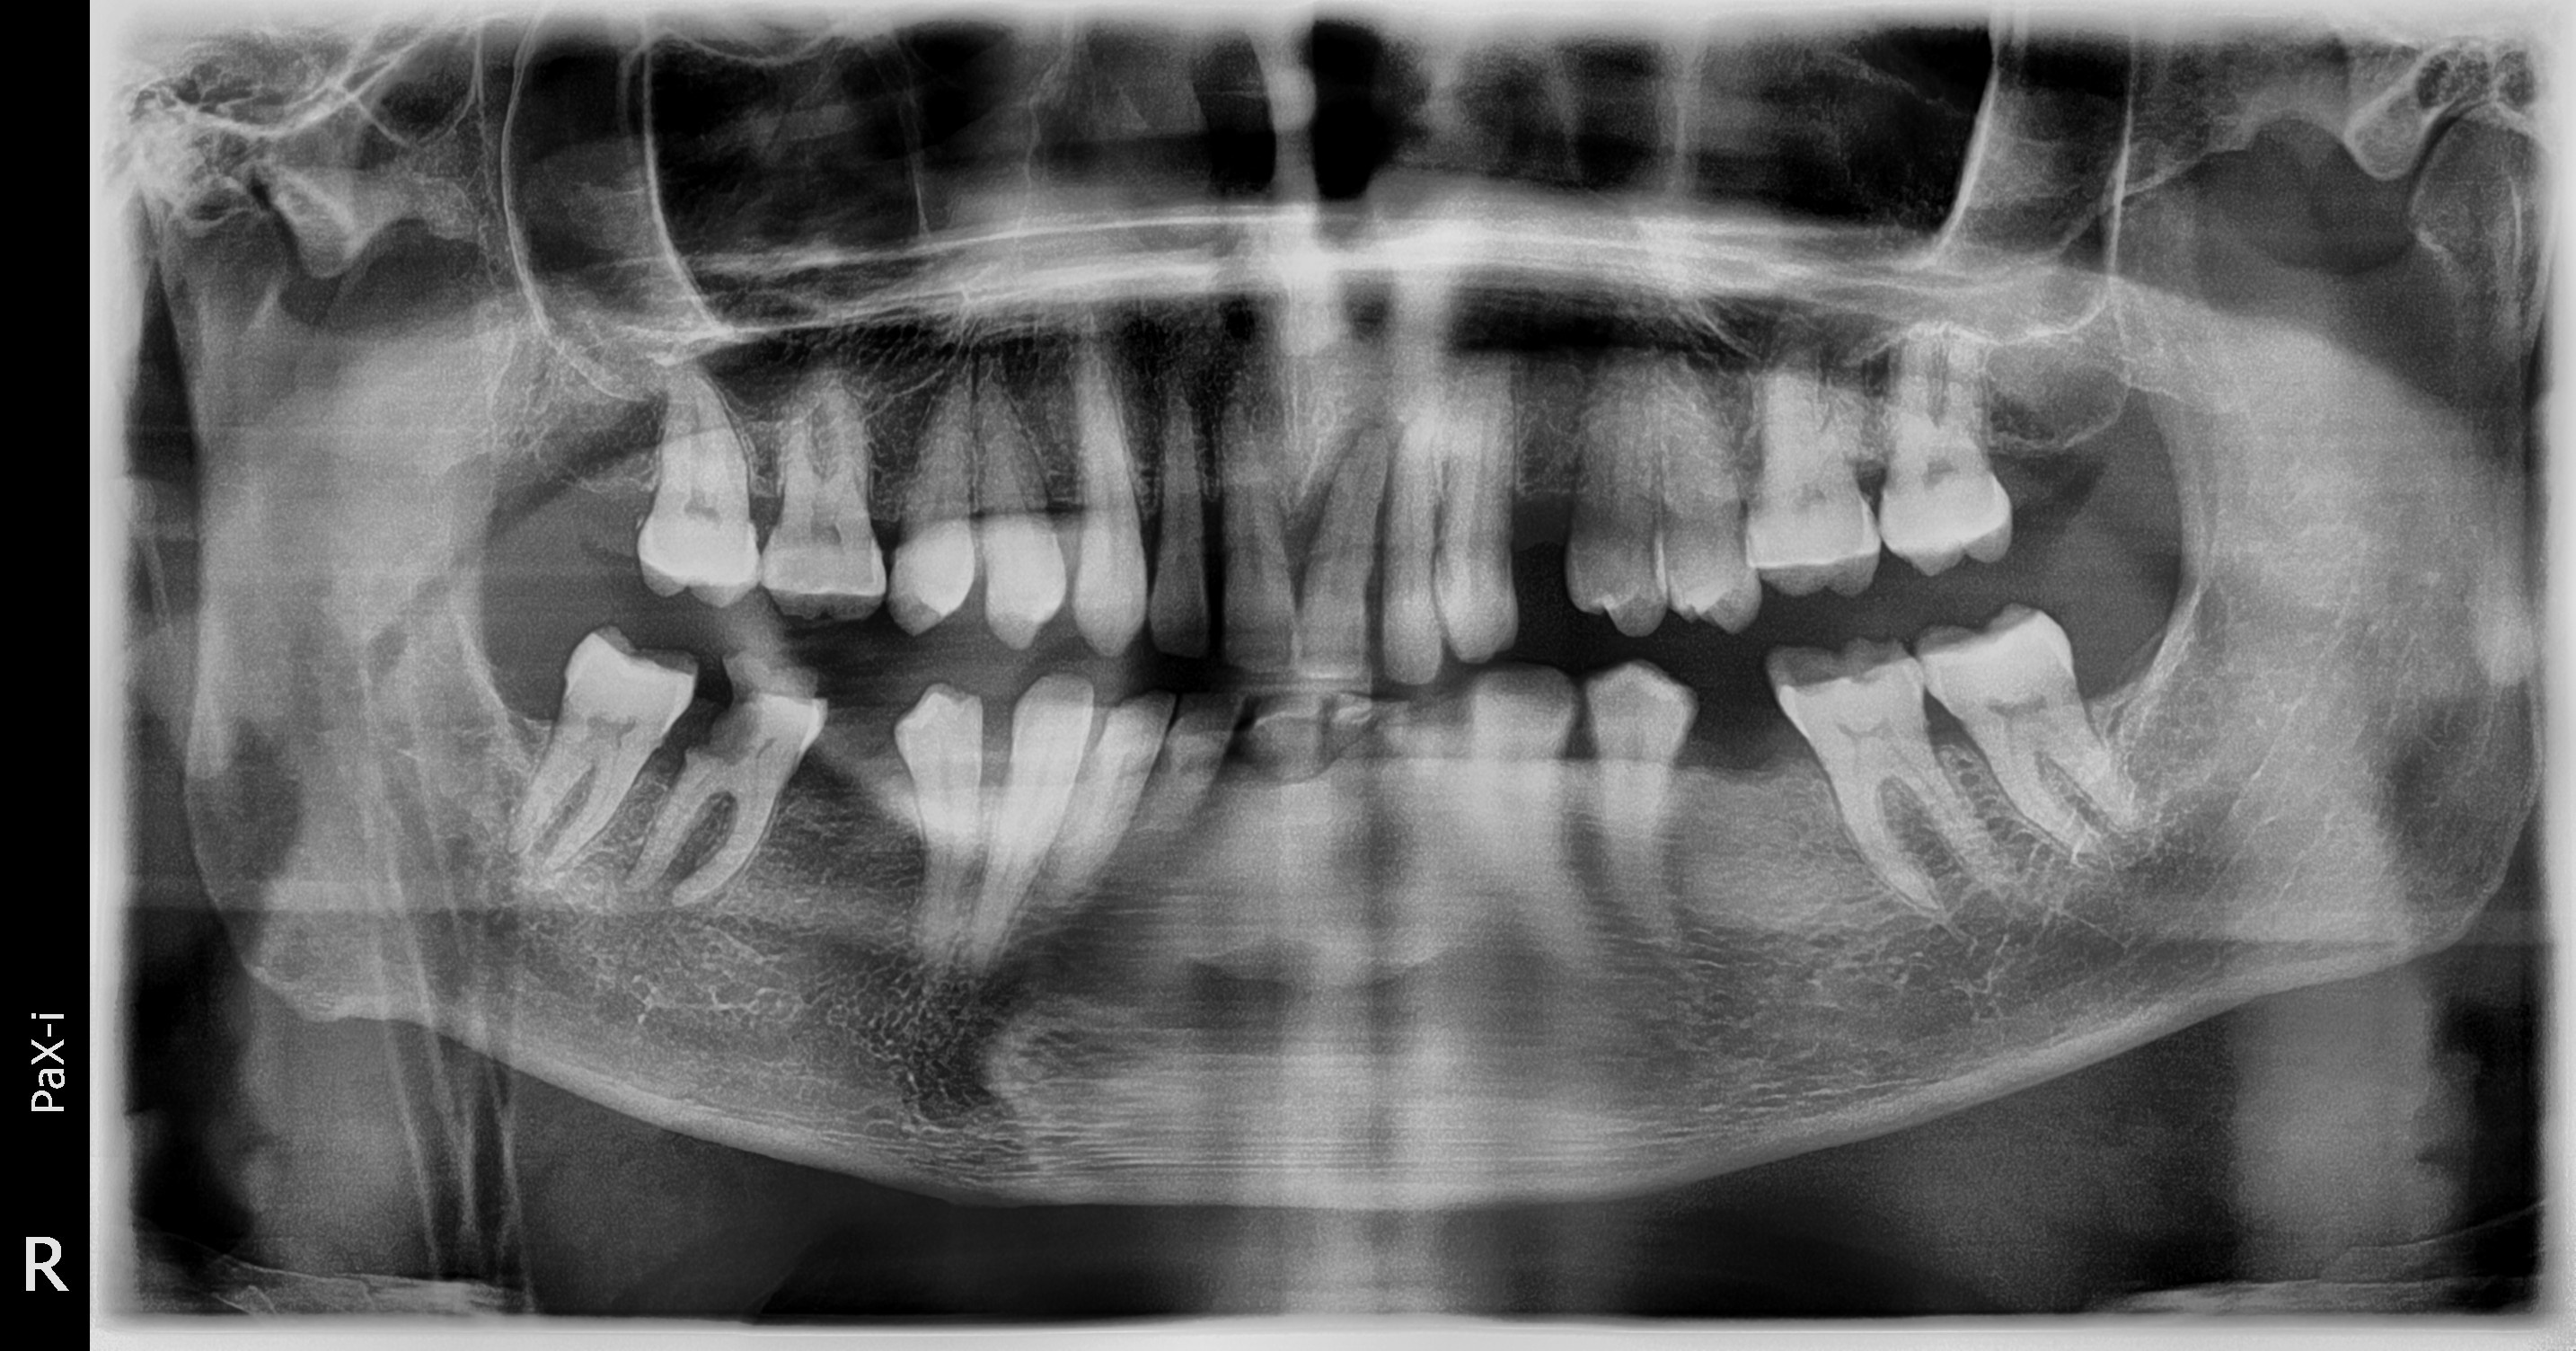CAR: (664, 656, 794, 782)
